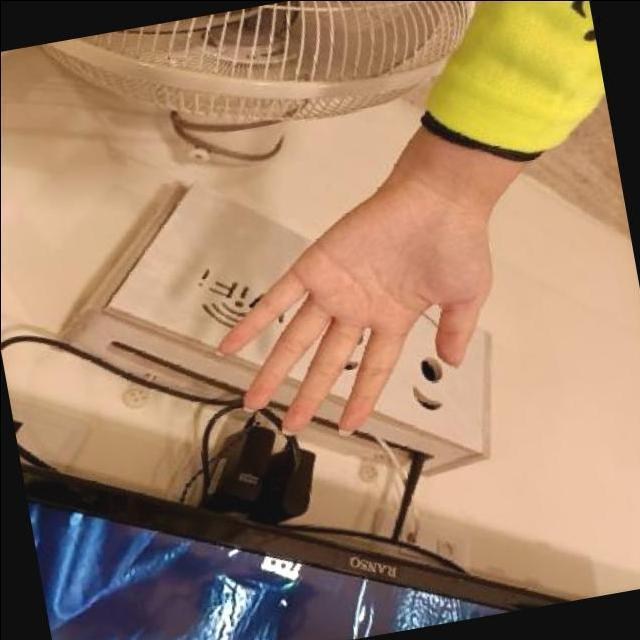hand: (182, 174, 538, 470)
